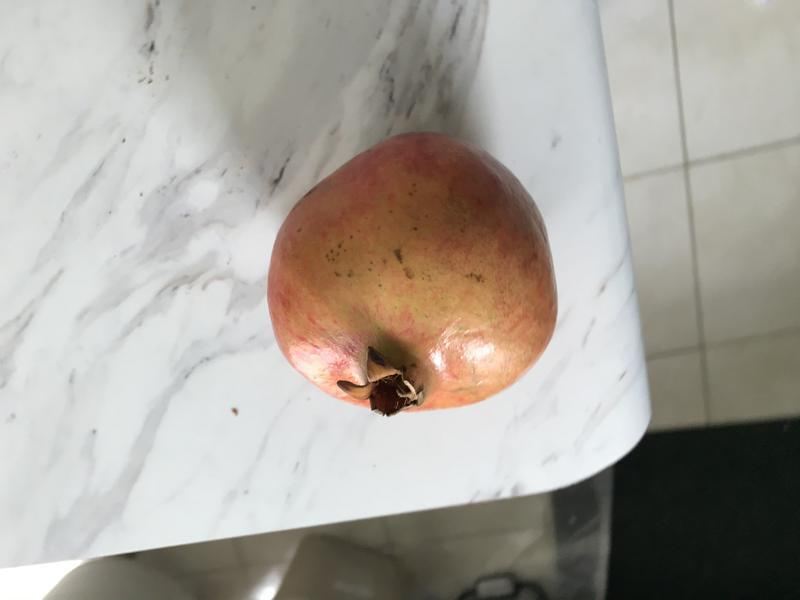pomegranate: (250, 115, 571, 431)
